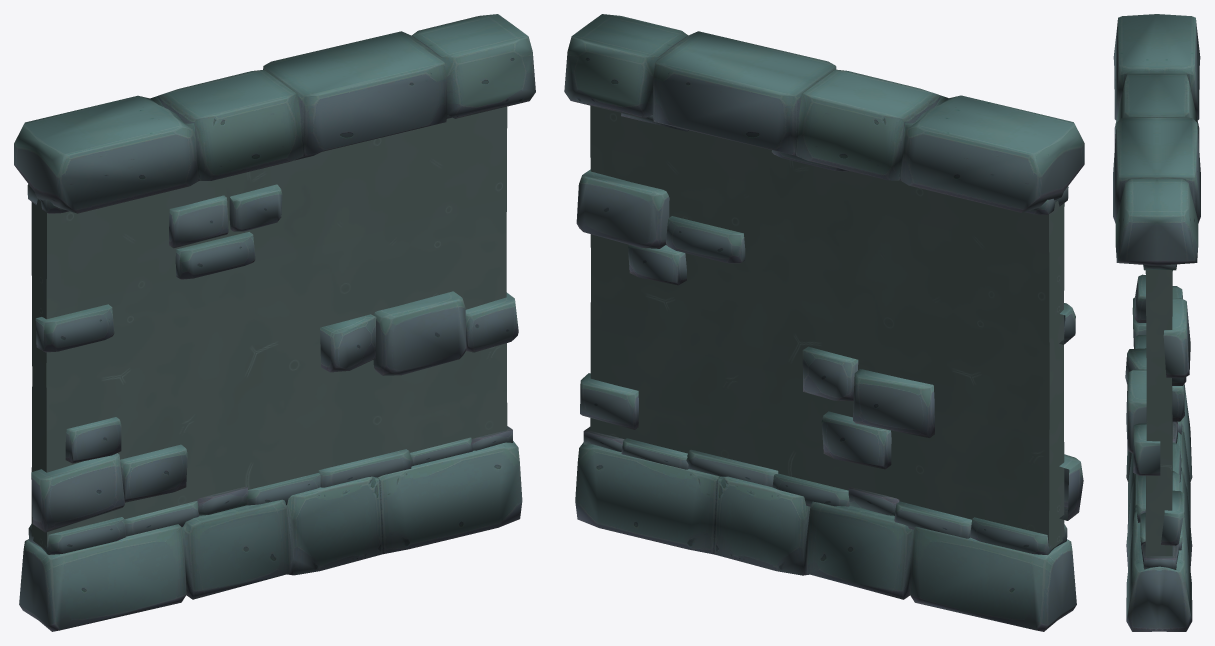
The model's file is wall.fbx.
3 views of the same model, side by side, from view 1: azimuth 30°, elevation 25°; view 2: azimuth 150°, elevation 25°; view 3: azimuth 270°, elevation 25° (orthographic). The views are drawn at different scales.
Visible parts, largest first — view 1: SM_Wall; view 2: SM_Wall; view 3: SM_Wall.
Part boxes in pixels (box(x1,y1,x2,y2)): SM_Wall: box(14, 14, 535, 631); SM_Wall: box(564, 14, 1084, 631); SM_Wall: box(1113, 14, 1200, 631).
Size of the model in its own units: 527 by 500 by 94.79.
